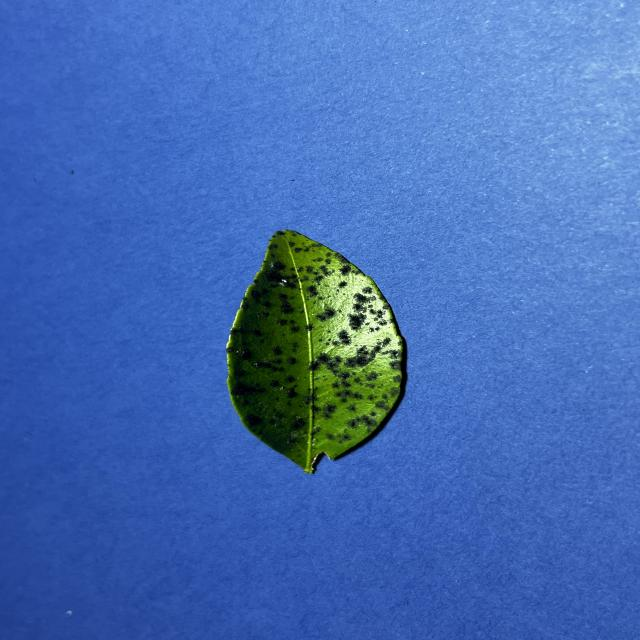sooty_mold: (227, 230, 404, 473)
